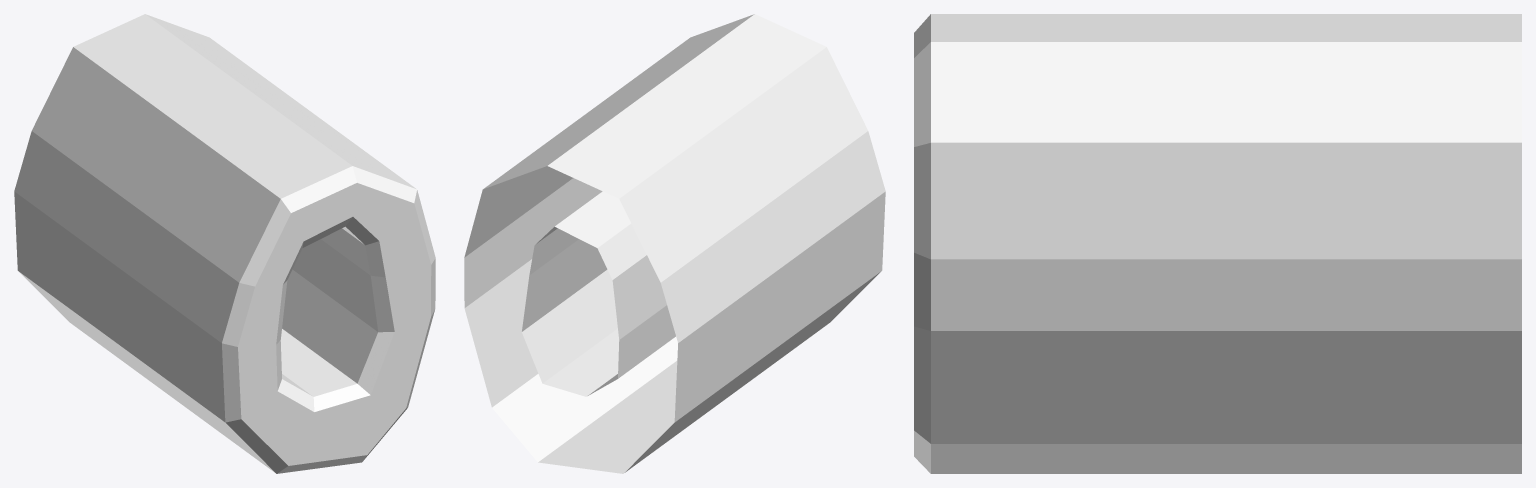
File: Number00.fbx
3 views of the same model, side by side, from view 1: azimuth 30°, elevation 25°; view 2: azimuth 150°, elevation 25°; view 3: azimuth 270°, elevation 25° (orthographic). The views are drawn at different scales.
Visible parts, largest first — view 1: Number00_Model; view 2: Number00_Model; view 3: Number00_Model.
Part boxes in pixels (left/top/right/bottom): Number00_Model: left=14, top=14, right=435, bottom=473; Number00_Model: left=464, top=14, right=885, bottom=473; Number00_Model: left=914, top=14, right=1521, bottom=473.
Bounding box in the file's own units: 85.26 × 114 × 147.
Materials: 1 (1 with a texture image).
